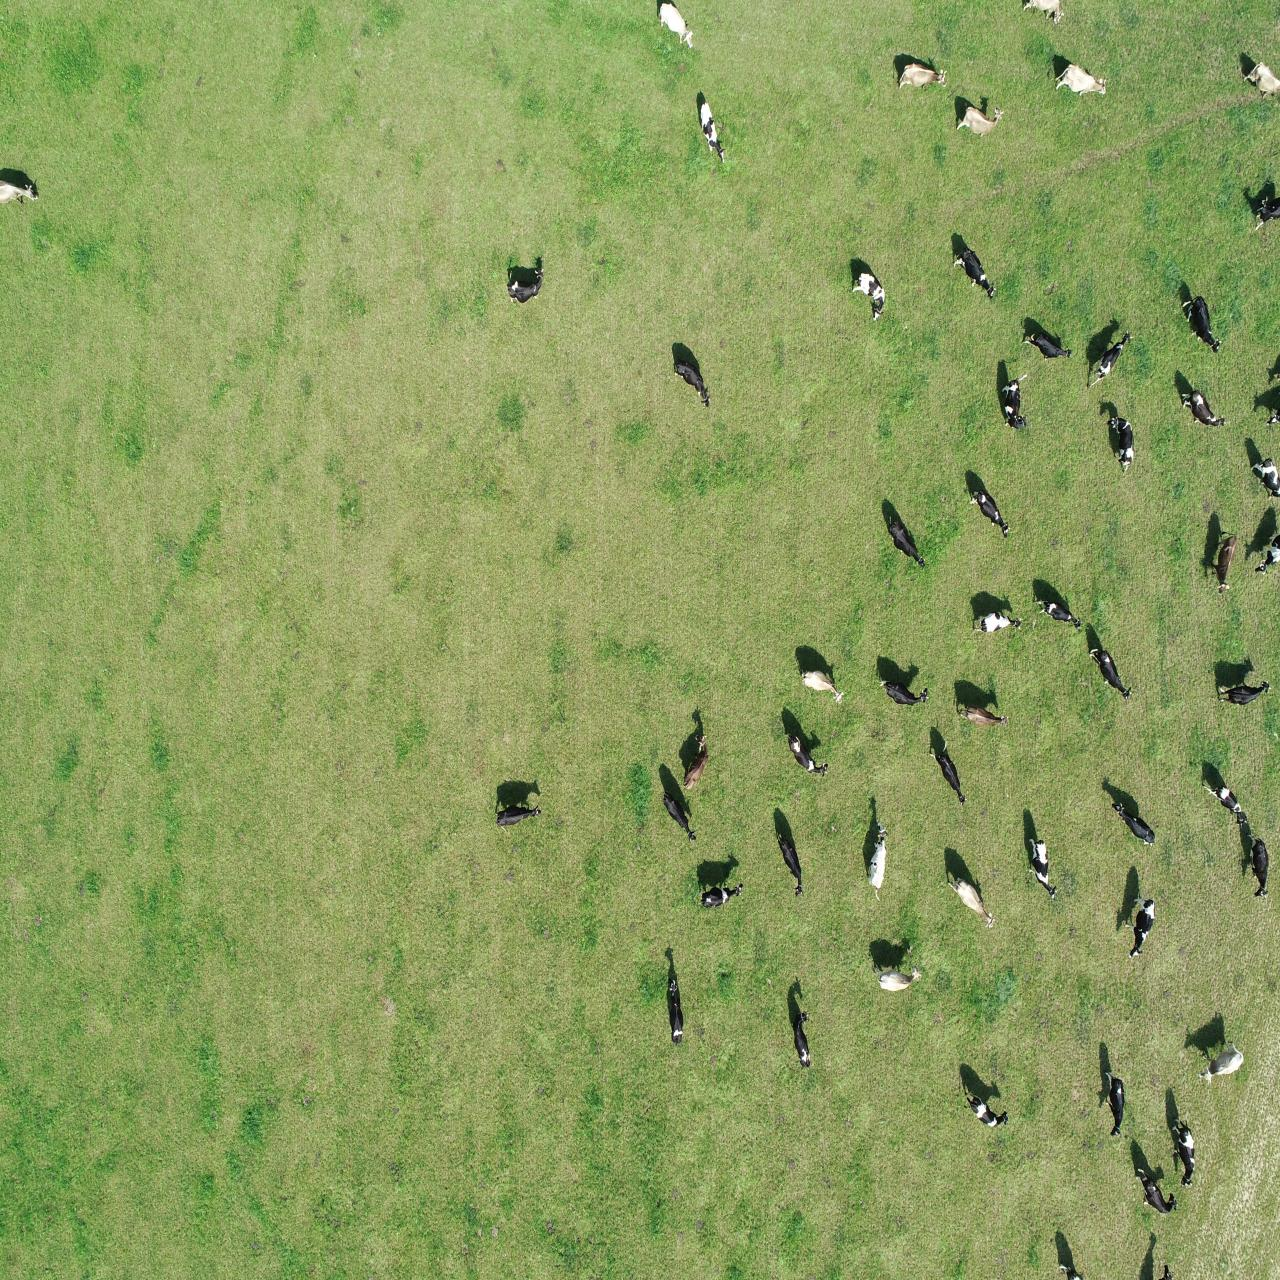cow: (925, 738, 969, 808), (1087, 327, 1133, 392), (946, 872, 996, 932), (1178, 292, 1225, 354), (1199, 776, 1252, 831), (1121, 888, 1158, 965), (952, 244, 999, 304), (1132, 1163, 1183, 1218), (1087, 644, 1133, 702), (1023, 831, 1061, 903), (1109, 798, 1157, 853), (771, 829, 808, 900), (667, 355, 714, 409), (1167, 1111, 1199, 1191), (783, 728, 830, 779), (884, 513, 927, 568), (1196, 1039, 1246, 1085), (960, 1088, 1012, 1132), (1053, 60, 1110, 100), (968, 488, 1012, 539), (1020, 324, 1074, 365), (1177, 386, 1227, 429), (1242, 831, 1273, 903), (953, 101, 1005, 143), (797, 663, 845, 708), (696, 101, 729, 165), (850, 268, 887, 325), (1210, 526, 1237, 602), (1030, 594, 1083, 633), (659, 790, 697, 843), (866, 818, 890, 904), (996, 373, 1030, 431), (490, 799, 543, 837), (1097, 1069, 1125, 1138), (876, 674, 931, 709), (1107, 414, 1138, 475), (655, 1, 695, 49), (680, 733, 712, 792), (894, 60, 949, 94), (1217, 678, 1272, 712), (870, 962, 922, 995), (504, 266, 545, 307), (665, 975, 687, 1049), (790, 1008, 816, 1070), (968, 607, 1022, 636), (955, 703, 1012, 730), (695, 881, 748, 910)
